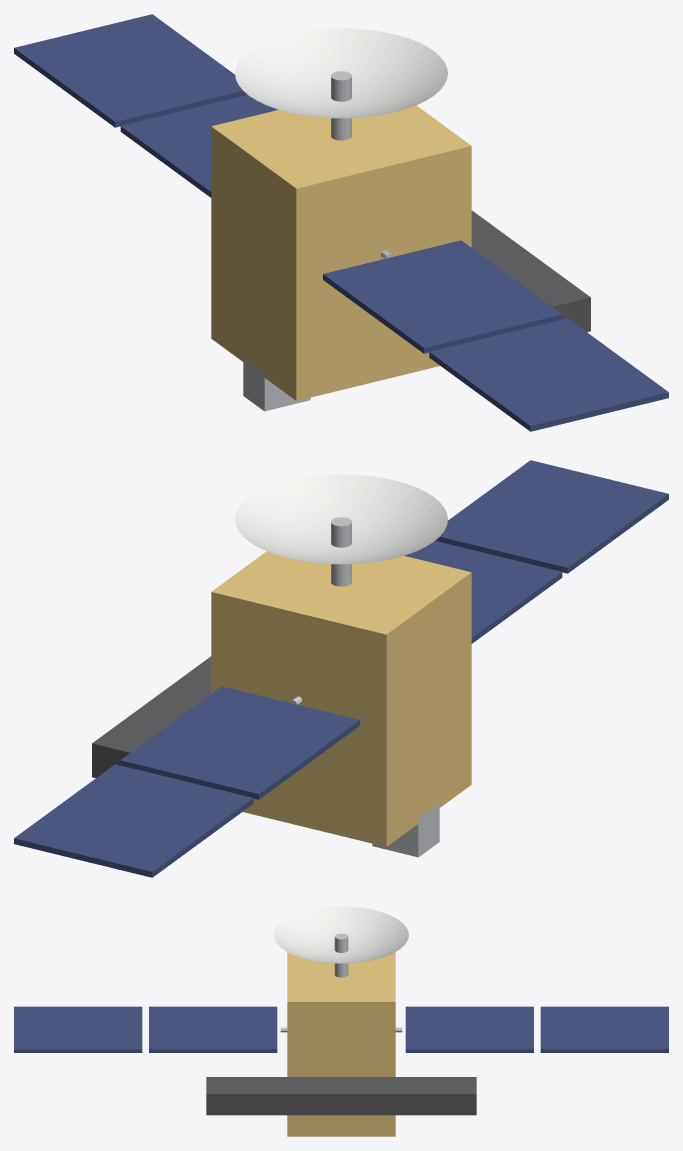
Rendered from veritas-low.glb.
3 renders of one model, top to bottom at view 1: azimuth 30°, elevation 25°; view 2: azimuth 150°, elevation 25°; view 3: azimuth 270°, elevation 25°, orthographic. The views are drawn at different scales.
Visible parts, largest first — view 1: veritas; view 2: veritas; view 3: veritas.
Boxes of the visible parts, x1=… form: veritas: x1=14, y1=14, x2=668, y2=431; veritas: x1=14, y1=460, x2=668, y2=877; veritas: x1=14, y1=906, x2=668, y2=1136.
Size of the model in its own units: 2.55 by 3.2 by 9.7.
